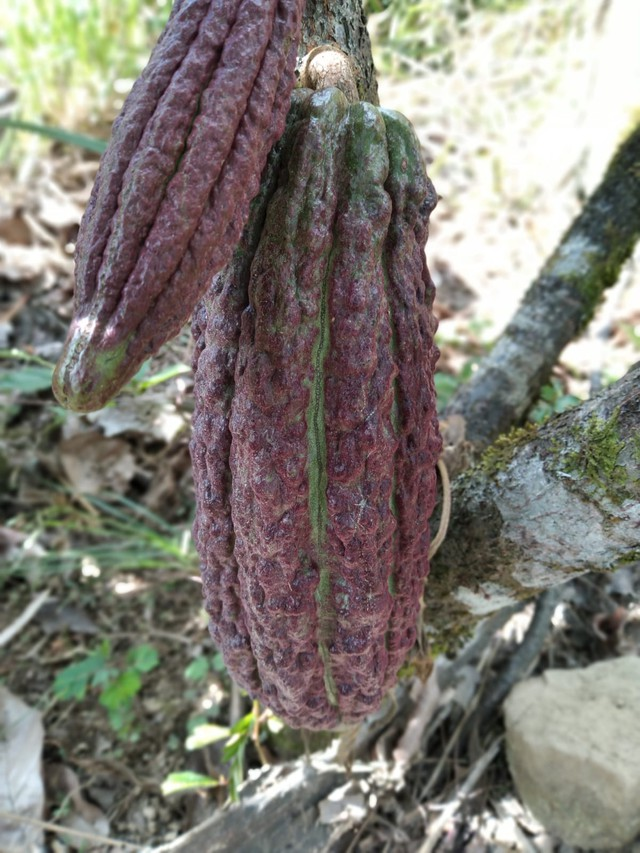Health: (186, 74, 451, 745), (56, 12, 366, 392)
